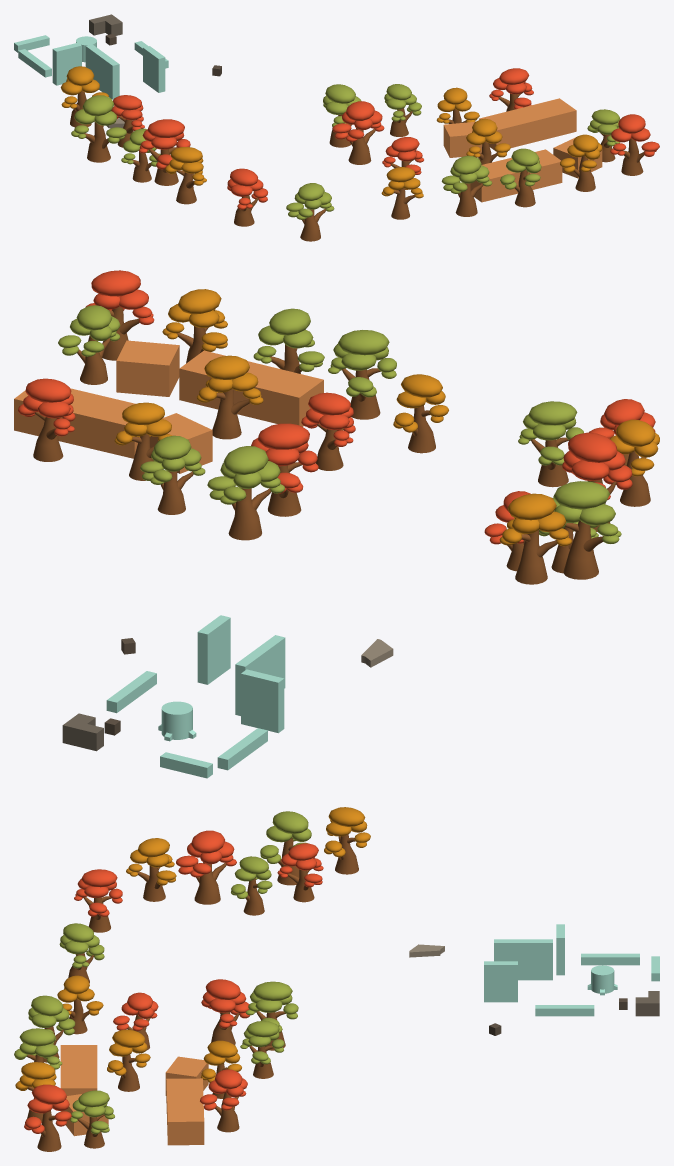
File: Blocking_Tuto_Decor.fbx
The picture shows the model from 3 angles, top to bottom: view 1: azimuth 30°, elevation 25°; view 2: azimuth 150°, elevation 25°; view 3: azimuth 270°, elevation 25°; orthographic projection. The views are drawn at different scales.
Parts seen in each view (by area): view 1: Maison.004, Arbre.011, Maison.002, Arbre.021, Arbre.010, Arbre.019, Arbre.005, Arbre.007, Arbre.020, Arbre.009, Arbre.008, Arbre.018 (+19 smaller); view 2: Maison.002, Arbre.004, Arbre.011, Maison.004, Arbre.014, Arbre.005, Arbre.021, Maison.003, Arbre.007, Arbre.016, Arbre.017, Arbre.003 (+20 smaller); view 3: Maison.004, Arbre.010, Arbre.019, Arbre.014, Etageres.001, Arbre.009, Arbre.021, Arbre.008, Maison.002, Arbre.011, Arbre.016, Arbre.017 (+19 smaller).
Boxes of the visible parts, box(x1,y1,x2,y2) form: Maison.004: box(479, 98, 576, 150); Arbre.011: box(71, 95, 126, 162); Maison.002: box(470, 149, 562, 202); Arbre.021: box(332, 101, 384, 164); Arbre.010: box(139, 119, 190, 185); Arbre.019: box(610, 114, 659, 175); Arbre.005: box(441, 155, 492, 216); Arbre.007: box(286, 183, 334, 241); Arbre.020: box(500, 148, 541, 207); Arbre.009: box(165, 147, 206, 204); Arbre.008: box(227, 168, 267, 226); Arbre.018: box(560, 134, 602, 191); Maison.002: box(179, 350, 323, 426); Arbre.004: box(207, 446, 284, 540); Arbre.011: box(553, 481, 621, 579); Maison.004: box(14, 388, 137, 458); Arbre.014: box(499, 493, 571, 584); Arbre.005: box(328, 330, 396, 419); Arbre.021: box(251, 423, 318, 516); Maison.003: box(116, 340, 179, 396); Arbre.007: box(518, 401, 583, 487); Arbre.016: box(196, 355, 263, 439); Arbre.017: box(18, 378, 75, 461); Arbre.003: box(140, 435, 205, 514); Maison.004: box(166, 1078, 204, 1145); Arbre.010: box(176, 830, 236, 904); Arbre.019: box(24, 1084, 71, 1151); Arbre.014: box(324, 807, 370, 874); Etageres.001: box(494, 939, 552, 980); Arbre.009: box(126, 838, 176, 901); Arbre.021: box(201, 979, 249, 1044); Arbre.008: box(74, 869, 122, 932); Maison.002: box(60, 1045, 97, 1111); Arbre.011: box(260, 811, 311, 885); Arbre.016: box(107, 1029, 150, 1091); Arbre.017: box(200, 1069, 247, 1132).
Size of the model in its own units: 137 by 29.23 by 149.
